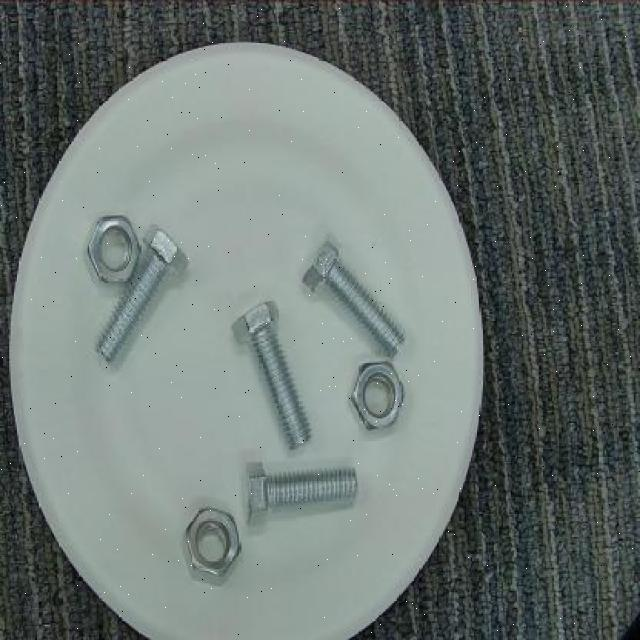Bolt: (298, 237, 409, 365), (92, 223, 192, 365), (229, 298, 315, 452), (243, 457, 361, 528)
Nut: (178, 500, 246, 586), (76, 210, 142, 292), (342, 357, 408, 435)
